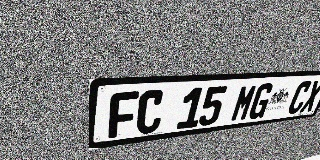1: (176, 87, 207, 129)
5: (198, 86, 228, 126)
C: (135, 89, 166, 135), (286, 81, 313, 115)
F: (108, 91, 139, 139)
G: (247, 83, 276, 120)
M: (229, 84, 259, 122)
X: (299, 80, 320, 113)
